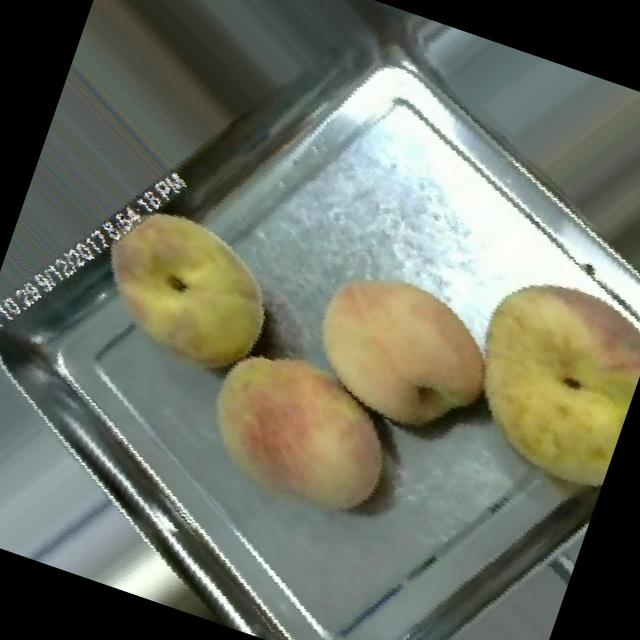Fruit: (413, 225, 640, 522), (53, 160, 317, 410), (166, 308, 431, 550), (272, 235, 530, 476)
